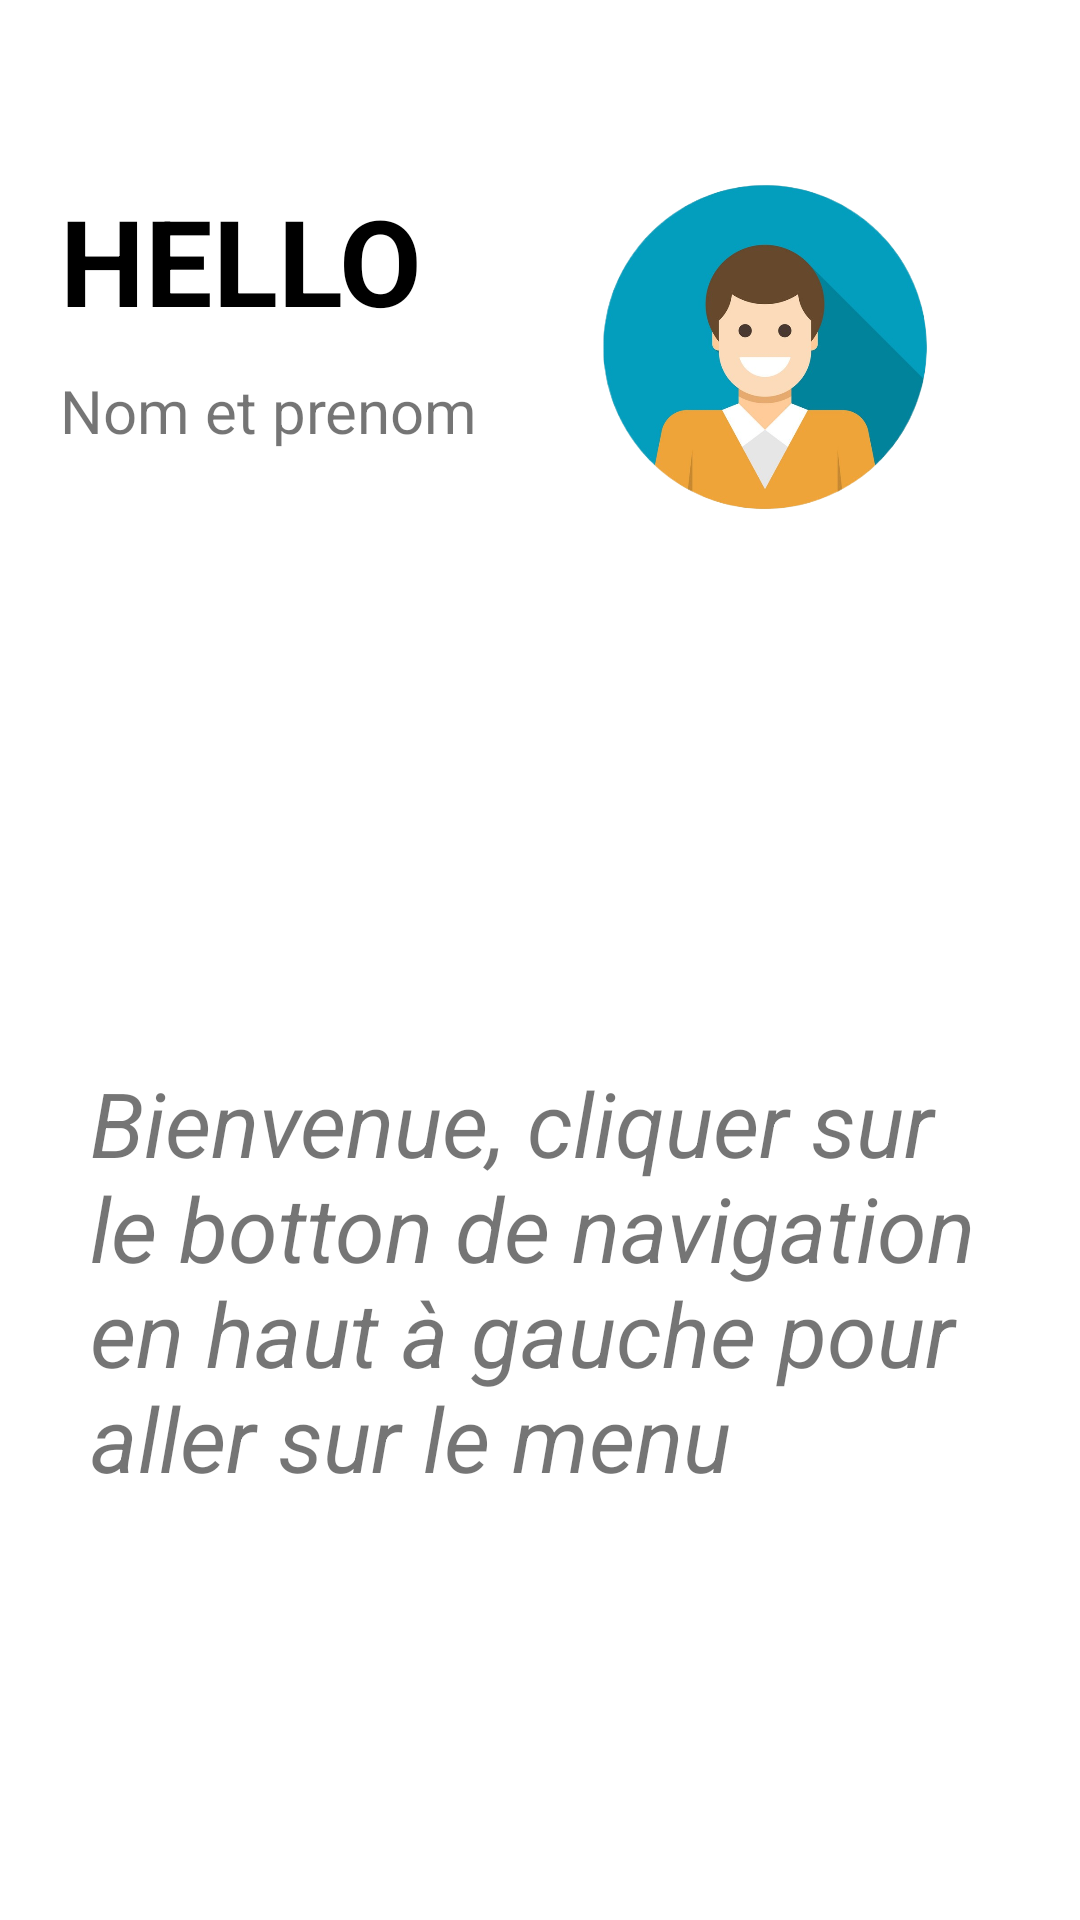

Locate icon controls on the screen. Image size 1080*1920, boxes as (x1, y1, x2, y2).
profile: (603, 185, 927, 509)
